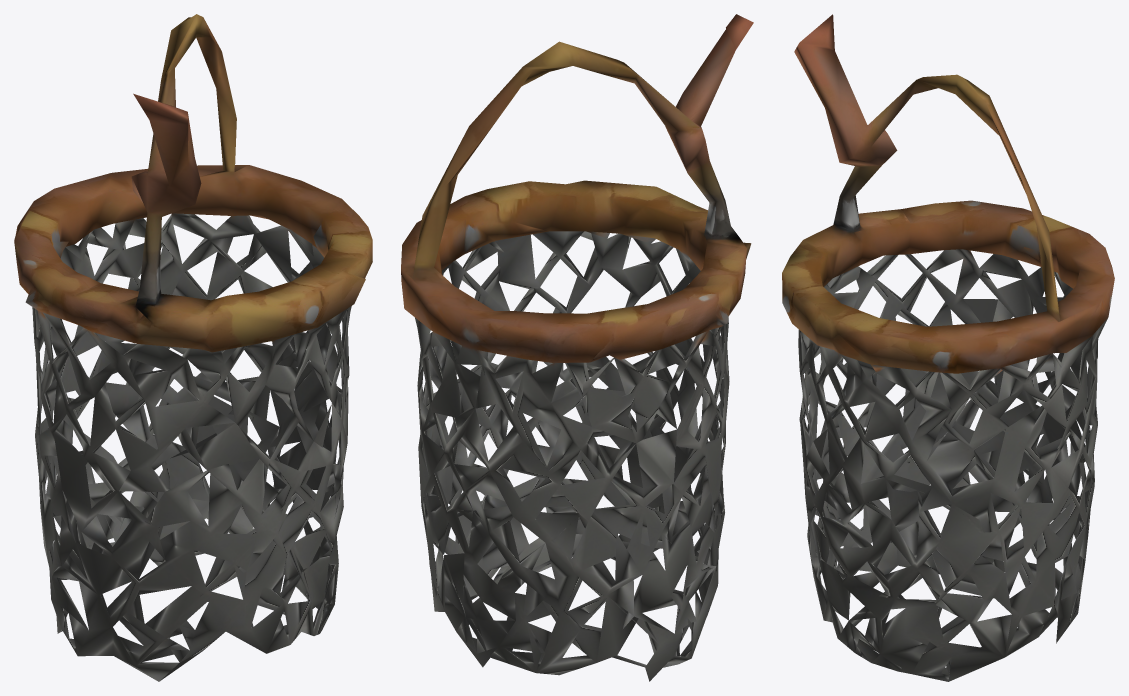
Rendered from item_fishing_net.glb.
The picture shows the model from 3 angles, left to right: view 1: azimuth 30°, elevation 25°; view 2: azimuth 150°, elevation 25°; view 3: azimuth 270°, elevation 25°; orthographic projection. The views are drawn at different scales.
Visible parts, largest first — view 1: tripo_node_2b09d9c6-2881-45b6-8dd5-d571e444dbe1; view 2: tripo_node_2b09d9c6-2881-45b6-8dd5-d571e444dbe1; view 3: tripo_node_2b09d9c6-2881-45b6-8dd5-d571e444dbe1.
Part boxes in pixels (x1,y1,x2,y2): tripo_node_2b09d9c6-2881-45b6-8dd5-d571e444dbe1: [14, 14, 372, 681]; tripo_node_2b09d9c6-2881-45b6-8dd5-d571e444dbe1: [401, 14, 753, 681]; tripo_node_2b09d9c6-2881-45b6-8dd5-d571e444dbe1: [782, 14, 1114, 681].
Size of the model in its own units: 0.5549 by 1 by 0.5361.
Materials: 1 (1 with a texture image).
